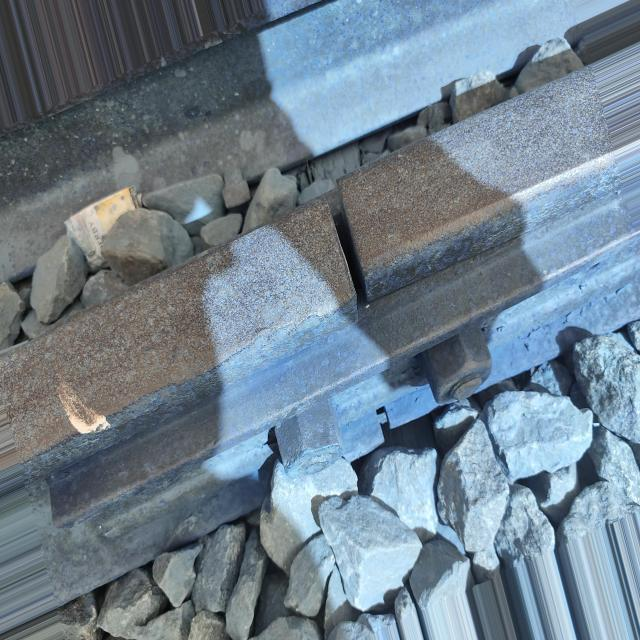Defective Joint: (47, 196, 633, 579)
